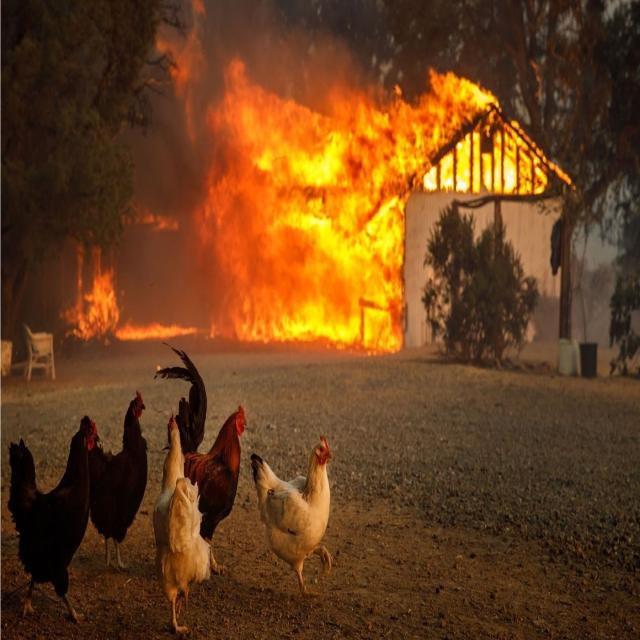fire: (282, 110, 403, 348)
